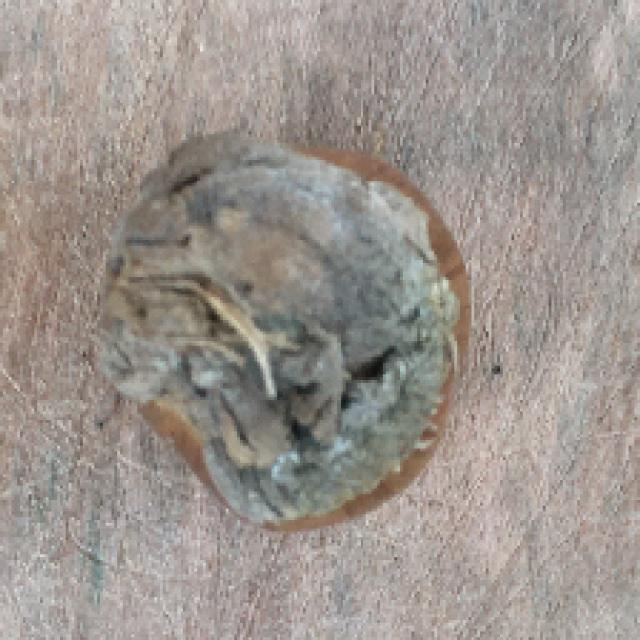damagedHazelnut: (94, 129, 476, 538)
